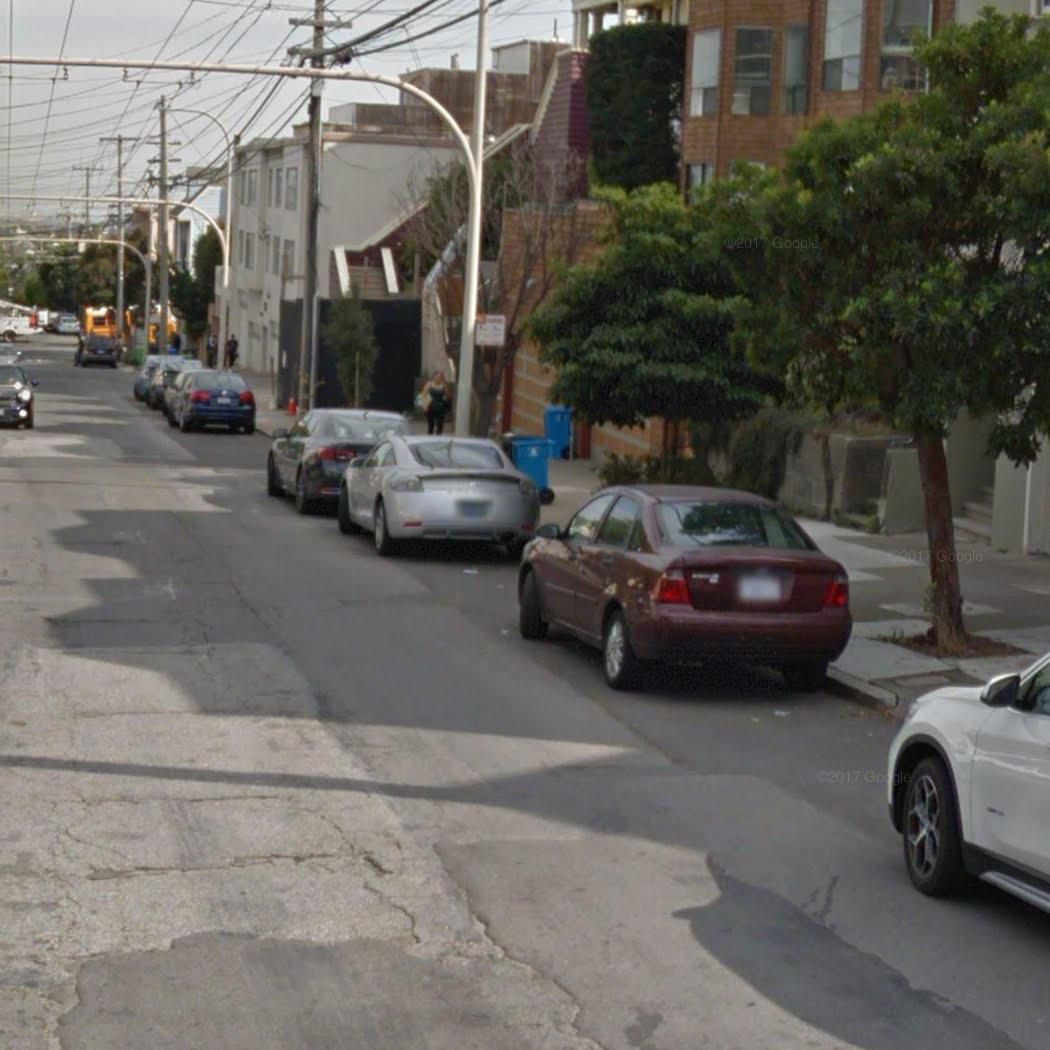No Parking: (472, 309, 508, 352)
